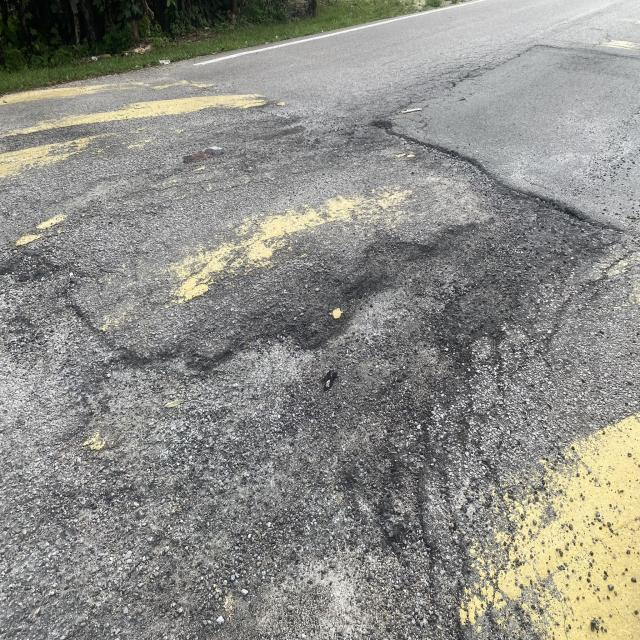pothole: (196, 270, 510, 468), (353, 93, 610, 244)
